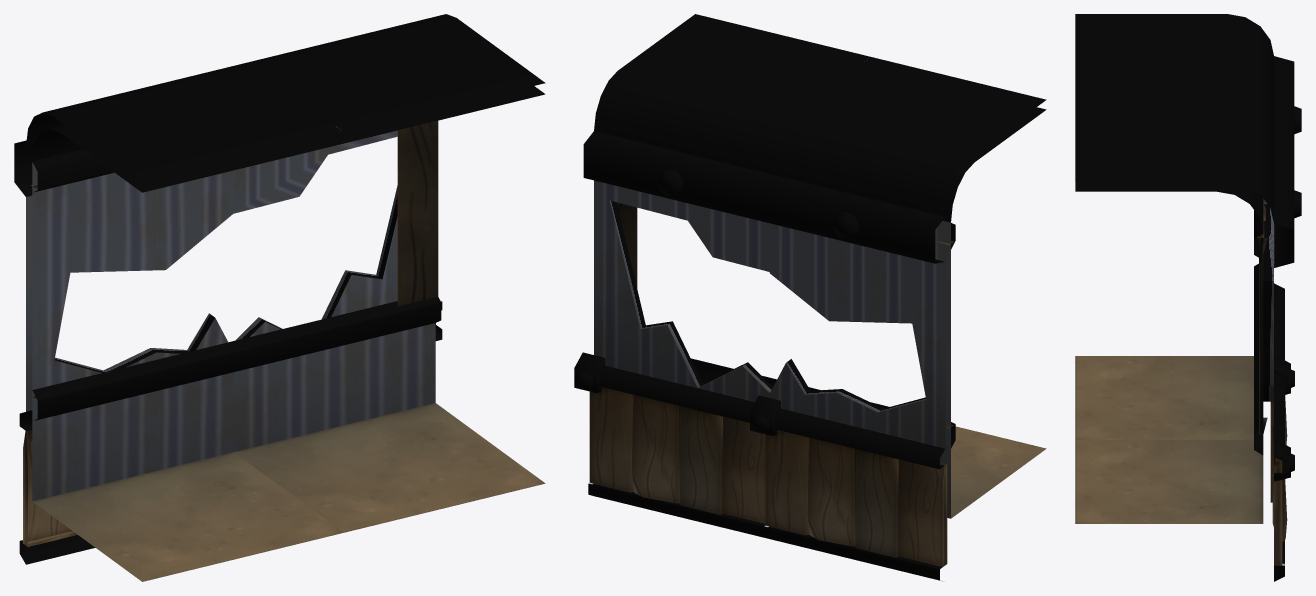
Rendered from SM_Mur_GLORYHOLE_Train_FINAL.fbx.
The picture shows the model from 3 angles, left to right: view 1: azimuth 30°, elevation 25°; view 2: azimuth 150°, elevation 25°; view 3: azimuth 270°, elevation 25°; orthographic projection. The views are drawn at different scales.
Visible parts, largest first — view 1: Milieu_Mur_gloryhole_Train_low_FINALE; view 2: Milieu_Mur_gloryhole_Train_low_FINALE; view 3: Milieu_Mur_gloryhole_Train_low_FINALE.
Part boxes in pixels (x1,y1,x2,y2): Milieu_Mur_gloryhole_Train_low_FINALE: (14,14,545,581); Milieu_Mur_gloryhole_Train_low_FINALE: (574,14,1046,581); Milieu_Mur_gloryhole_Train_low_FINALE: (1075,14,1301,581).
Size of the model in its own units: 4.13 by 4.44 by 2.28.
